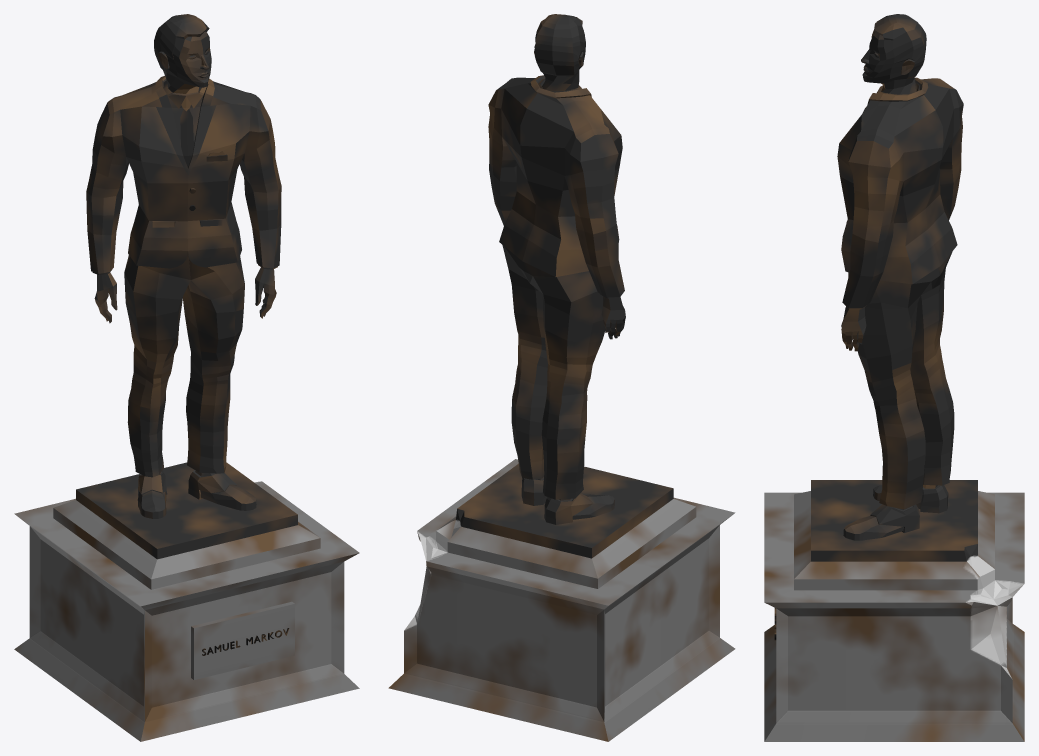
File: Pomnik.fbx
3 renders of one model, left to right at view 1: azimuth 30°, elevation 25°; view 2: azimuth 150°, elevation 25°; view 3: azimuth 270°, elevation 25°, orthographic. The views are drawn at different scales.
Parts seen in each view (by area): view 1: Pomnik; view 2: Pomnik; view 3: Pomnik.
Boxes of the visible parts, x1,y1,x2,y2 form: Pomnik: (14,14,359,741); Pomnik: (388,14,735,741); Pomnik: (764,14,1024,741).
Bounding box in the file's own units: 220 × 624 × 220.
